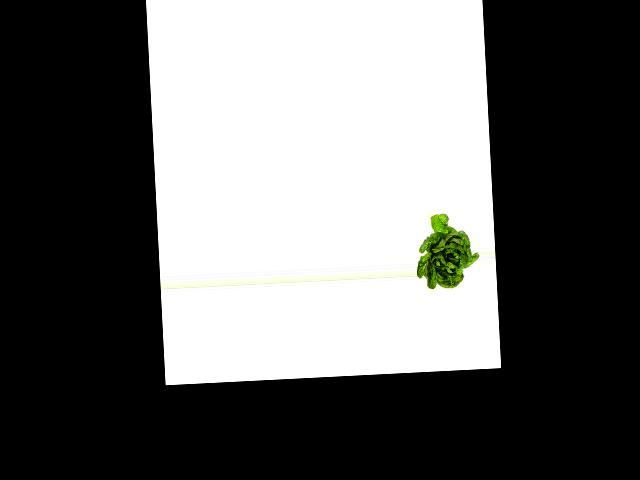lettuce: (416, 209, 480, 290)
